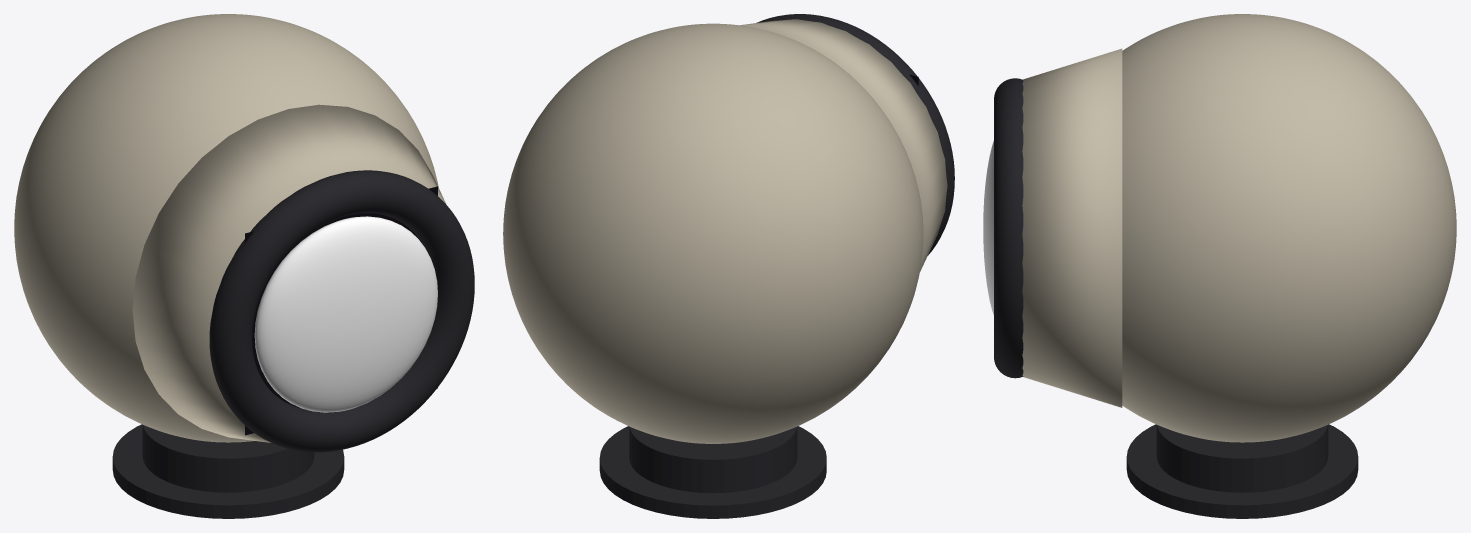
Rendered from orb.glb.
3 renders of one model, left to right at view 1: azimuth 30°, elevation 25°; view 2: azimuth 150°, elevation 25°; view 3: azimuth 270°, elevation 25°, orthographic.
Parts seen in each view (by area): view 1: Sphere, Cone, Torus.007, Sphere.001, Cylinder.001, Cylinder, Plane.005; view 2: Sphere, Cone, Cylinder.001, Cylinder, Torus.007; view 3: Sphere, Cone, Cylinder.001, Torus.007, Cylinder, Sphere.001.
Boxes of the visible parts, x1,y1,x2,y2 form: Sphere: (14,14,438,442); Cone: (132,104,446,442); Torus.007: (209,170,474,452); Sphere.001: (254,216,437,412); Cylinder.001: (112,424,344,518); Cylinder: (142,425,314,492); Plane.005: (245,186,437,435); Sphere: (503,23,923,443); Cone: (740,19,947,271); Cylinder.001: (599,426,826,518); Cylinder: (629,426,797,493); Torus.007: (757,14,954,255); Sphere: (1122,14,1456,442); Cone: (1022,48,1122,407); Cylinder.001: (1126,424,1358,518); Torus.007: (994,78,1023,378); Cylinder: (1156,425,1328,492); Sphere.001: (983,141,993,315).
Size of the model in its own units: 1 by 1.12 by 1.11.
4 materials, 1 textured.
